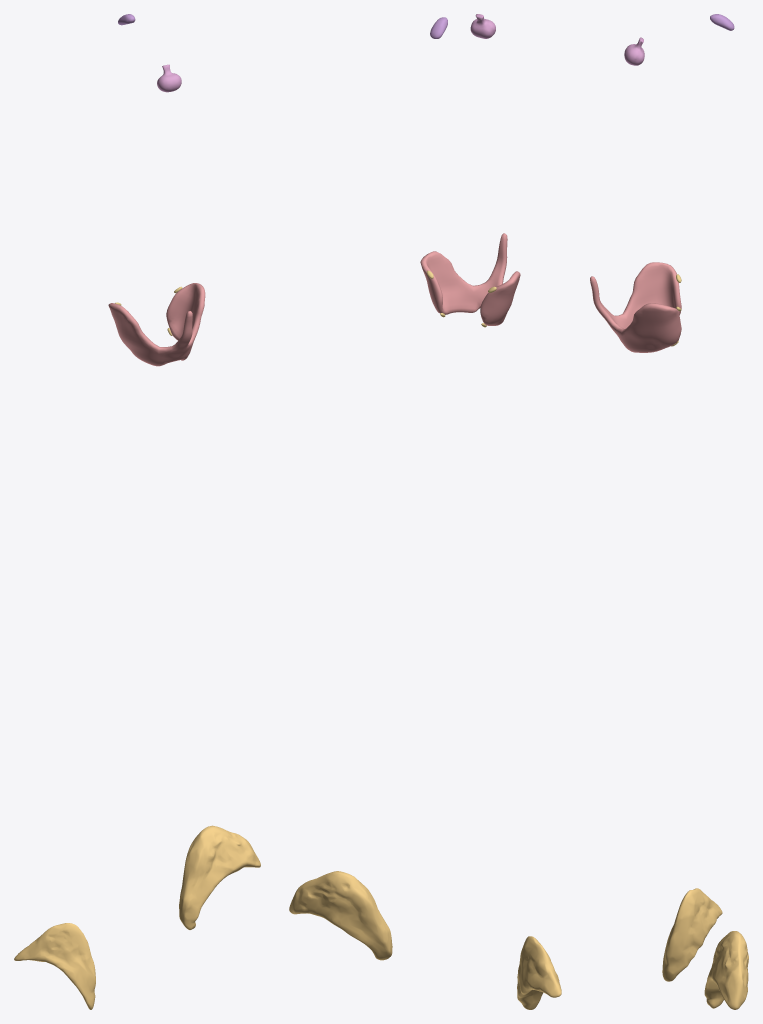
Rendered from z-anatomy-endocrine-glands.glb.
3 renders of one model, left to right at view 1: azimuth 30°, elevation 25°; view 2: azimuth 150°, elevation 25°; view 3: azimuth 270°, elevation 25°, orthographic. The views are drawn at different scales.
Parts seen in each view (by area): view 1: adrenal-glands-suprarenal-gland-left__Suprarenal gland.l, thyroid-gland__Thyroid gland, adrenal-glands-suprarenal-gland-right__Suprarenal gland.r; view 2: adrenal-glands-suprarenal-gland-left__Suprarenal gland.l, thyroid-gland__Thyroid gland, adrenal-glands-suprarenal-gland-right__Suprarenal gland.r; view 3: thyroid-gland__Thyroid gland, adrenal-glands-suprarenal-gland-right__Suprarenal gland.r, adrenal-glands-suprarenal-gland-left__Suprarenal gland.l.
Part boxes in pixels (bbox=[...]): adrenal-glands-suprarenal-gland-left__Suprarenal gland.l: bbox=[179, 825, 260, 929]; thyroid-gland__Thyroid gland: bbox=[108, 283, 205, 366]; adrenal-glands-suprarenal-gland-right__Suprarenal gland.r: bbox=[14, 923, 95, 1009]; adrenal-glands-suprarenal-gland-left__Suprarenal gland.l: bbox=[289, 871, 392, 960]; thyroid-gland__Thyroid gland: bbox=[420, 233, 520, 325]; adrenal-glands-suprarenal-gland-right__Suprarenal gland.r: bbox=[517, 936, 561, 1009]; thyroid-gland__Thyroid gland: bbox=[590, 262, 681, 352]; adrenal-glands-suprarenal-gland-right__Suprarenal gland.r: bbox=[662, 888, 722, 981]; adrenal-glands-suprarenal-gland-left__Suprarenal gland.l: bbox=[704, 931, 748, 1009].
Bounding box in the file's own units: 0.138 × 0.4994 × 0.072.
